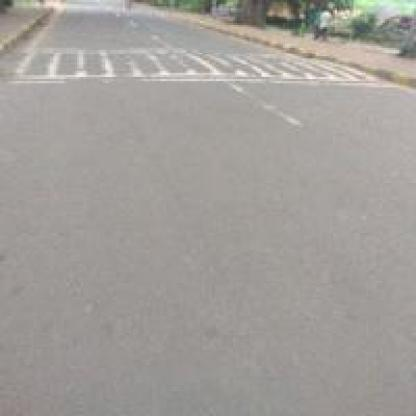Speed Bump: (17, 56, 356, 83)
